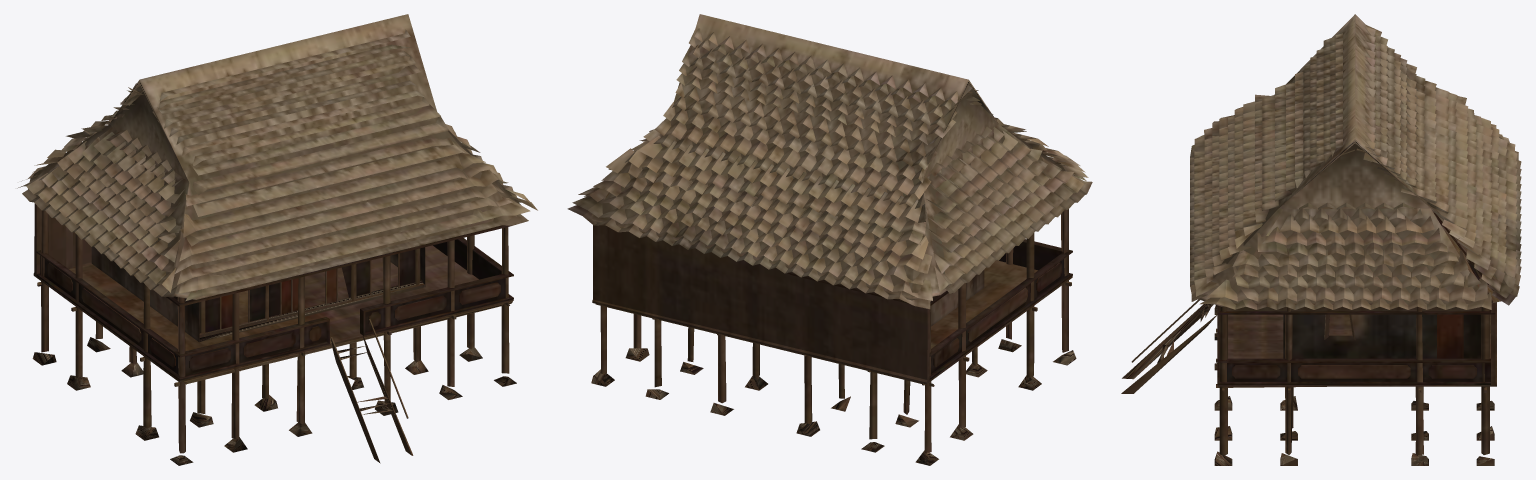
The model's file is nha-san-can-tho.glb.
3 views of the same model, side by side, from view 1: azimuth 30°, elevation 25°; view 2: azimuth 150°, elevation 25°; view 3: azimuth 270°, elevation 25° (orthographic). The views are drawn at different scales.
Parts seen in each view (by area): view 1: Object_2, Object_3; view 2: Object_3, Object_2; view 3: Object_2, Object_3.
Part boxes in pixels (bbox=[...]): Object_2: bbox=[22, 14, 537, 465]; Object_3: bbox=[17, 83, 513, 418]; Object_3: bbox=[567, 28, 1072, 384]; Object_2: bbox=[584, 14, 1092, 465]; Object_2: bbox=[1121, 14, 1513, 465]; Object_3: bbox=[1131, 25, 1521, 386].
Bounding box in the file's own units: 0.9988 × 0.8323 × 0.9737.
1 material, 1 textured.
